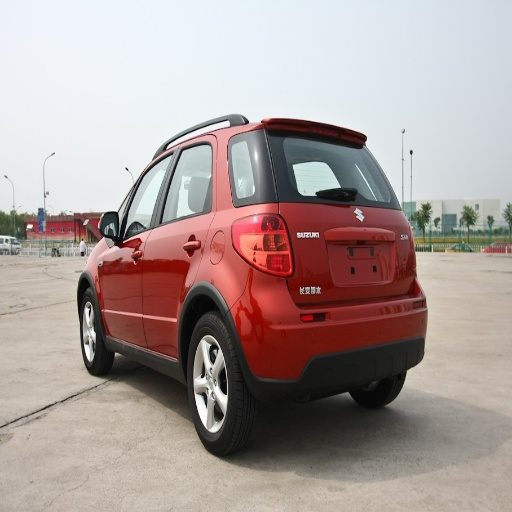back_bumper: (233, 268, 428, 400)
back_glass: (231, 131, 394, 204)
back_left_door: (143, 140, 215, 353)
tailgate: (335, 239, 395, 298)
trunk: (279, 205, 409, 313)
